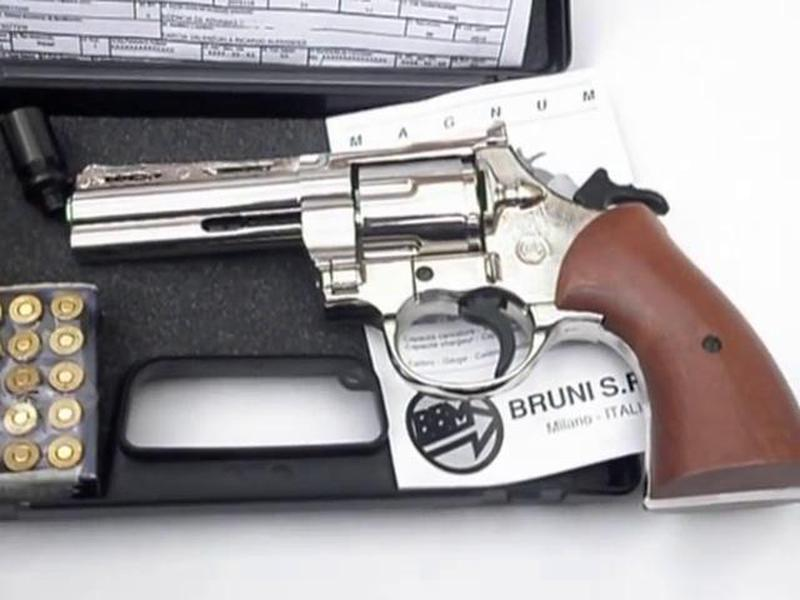Revolver: (66, 118, 800, 443)
